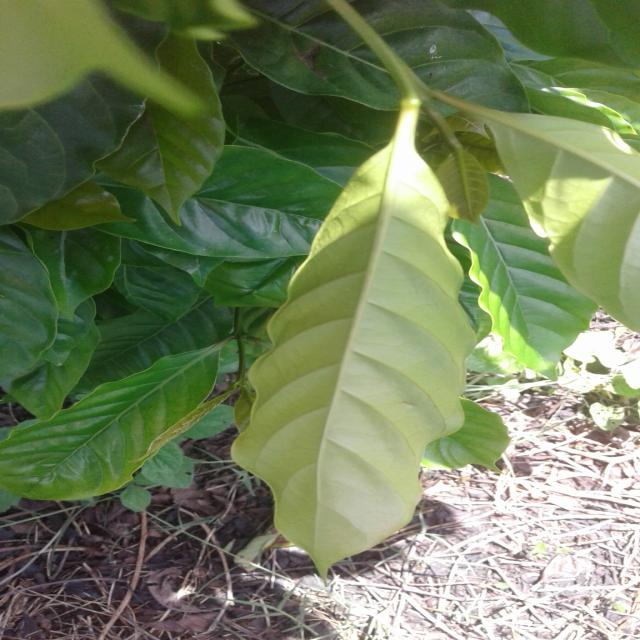Sanas: (229, 101, 509, 584)
